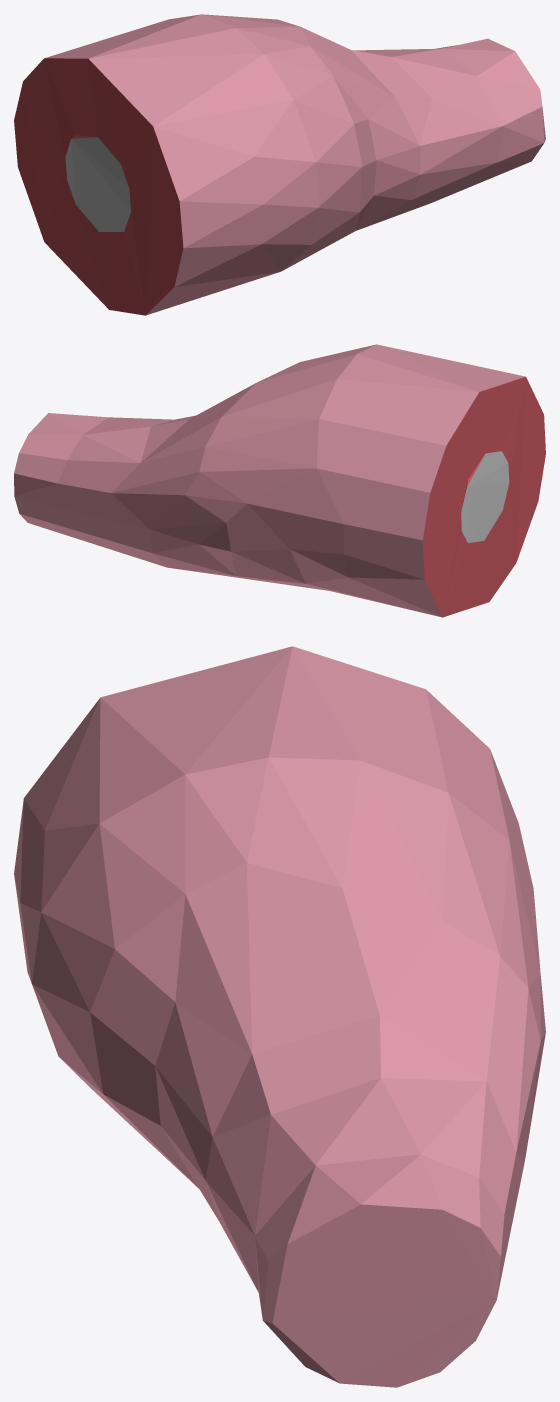
The model's file is leg.fbx.
3 views of the same model, one above another, from view 1: azimuth 30°, elevation 25°; view 2: azimuth 150°, elevation 25°; view 3: azimuth 270°, elevation 25° (orthographic). The views are drawn at different scales.
Parts seen in each view (by area): view 1: Sphere; view 2: Sphere; view 3: Sphere.
Part boxes in pixels (x1,y1,x2,y2): Sphere: (14,14,545,315); Sphere: (14,344,545,617); Sphere: (14,646,545,1387).
Bounding box in the file's own units: 0.7985 × 0.404 × 0.4825.
